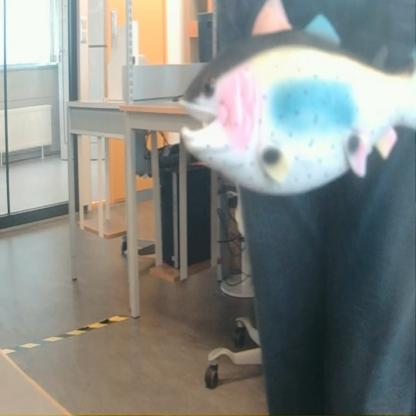rubberfish: (176, 9, 415, 202)
